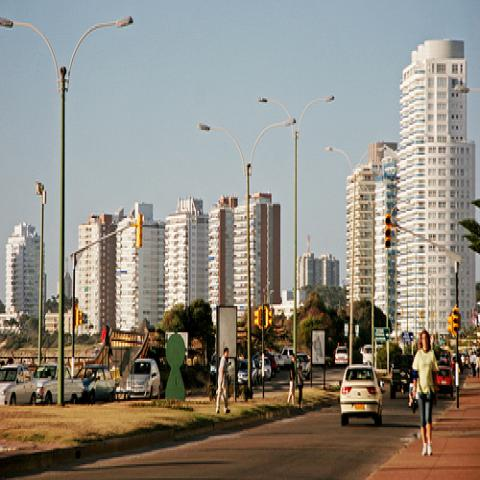car: (339, 364, 382, 425), (0, 363, 38, 406), (73, 365, 114, 404), (126, 358, 160, 400), (433, 365, 454, 399), (238, 358, 258, 386), (297, 353, 310, 381), (334, 347, 348, 365), (280, 349, 293, 365), (264, 357, 271, 378)
truck: (390, 353, 414, 398), (33, 364, 58, 406), (363, 344, 384, 366)
